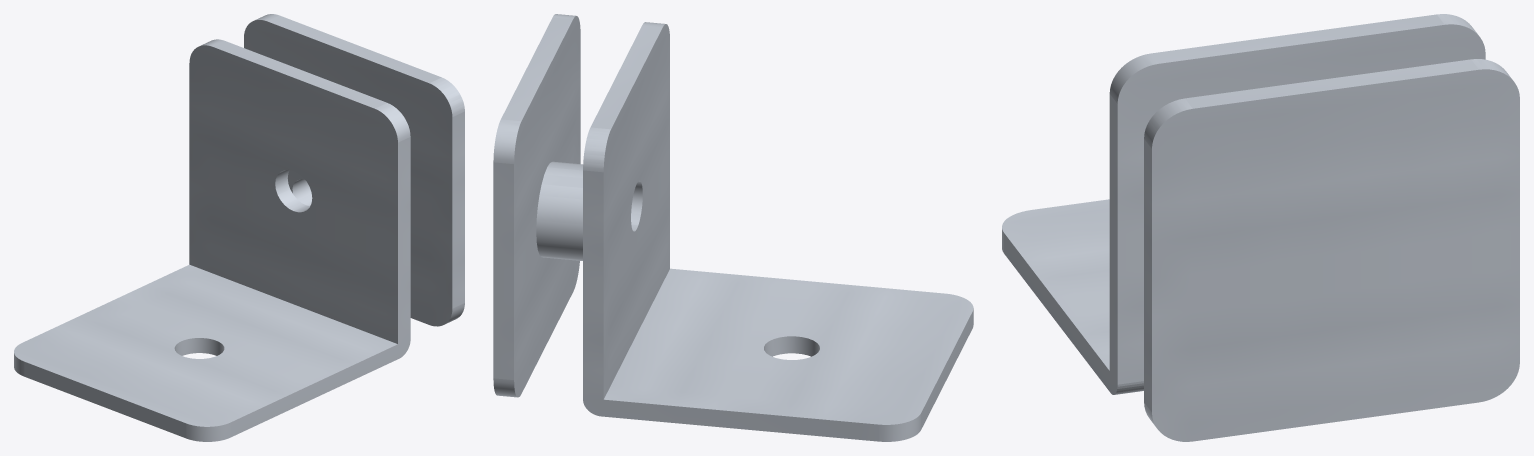
Rendered from Iman.glb.
3 views of the same model, side by side, from view 1: azimuth 30°, elevation 25°; view 2: azimuth 150°, elevation 25°; view 3: azimuth 270°, elevation 25° (orthographic). The views are drawn at different scales.
Visible parts, largest first — view 1: 3DGeom-2, 3DGeom-1; view 2: 3DGeom-2, 3DGeom-1; view 3: 3DGeom-1, 3DGeom-2.
Boxes of the visible parts, box(x1,y1,x2,y2) form: 3DGeom-2: box(14, 39, 410, 441); 3DGeom-1: box(244, 14, 464, 326); 3DGeom-2: box(583, 22, 973, 441); 3DGeom-1: box(493, 14, 583, 397); 3DGeom-1: box(1144, 59, 1519, 441); 3DGeom-2: box(1002, 14, 1485, 394).
Bounding box in the file's own units: 2.99 × 1.81 × 2.55.
Materials: 1 (1 with a texture image).
